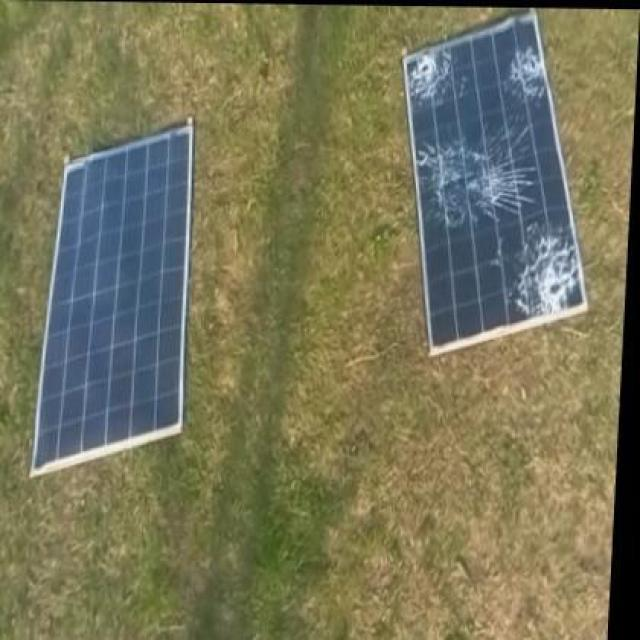cracked: (404, 9, 588, 364)
